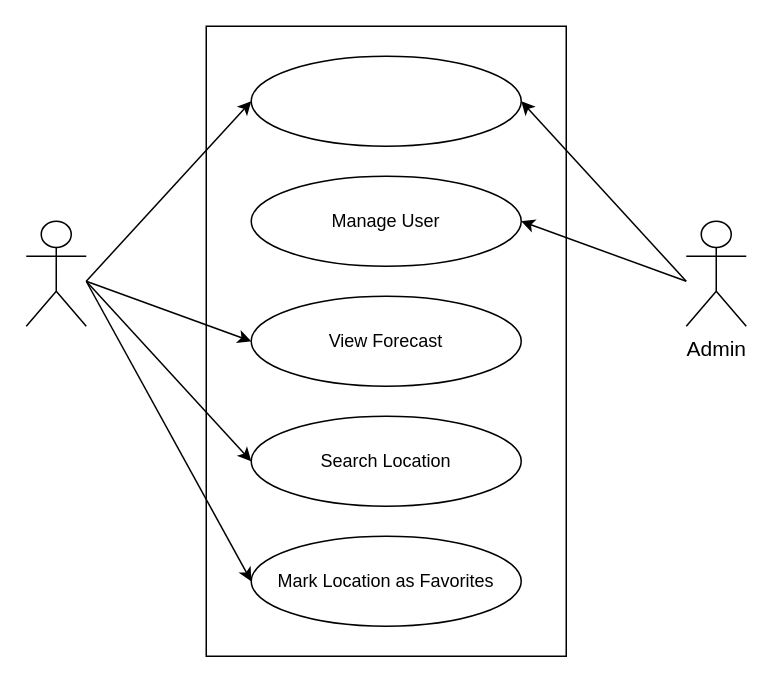
This 773x683 diagram has some shape labels left out. The centre of each missing label's shape, as x and y in pixels:
Register/Login: the point at 385,100
User: the point at 55,273
